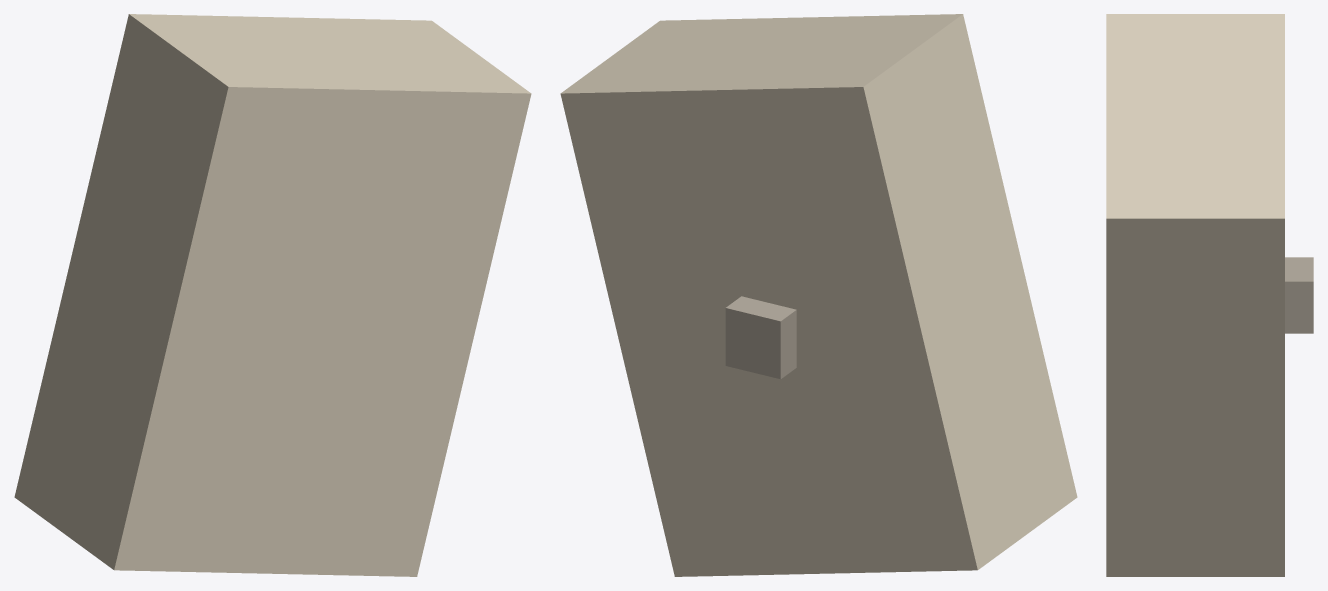
The model's file is historic-palestine-11_36_3529_3302.glb.
3 views of the same model, side by side, from view 1: azimuth 30°, elevation 25°; view 2: azimuth 150°, elevation 25°; view 3: azimuth 270°, elevation 25° (orthographic). The views are drawn at different scales.
Parts seen in each view (by area): view 1: Building_; view 2: Building_, Roof access hut; view 3: Building_, Roof access hut.
Part boxes in pixels (box(x1,y1,x2,y2)): Building_: box(14, 14, 531, 576); Building_: box(560, 14, 1077, 576); Roof access hut: box(725, 296, 796, 379); Building_: box(1106, 14, 1284, 576); Roof access hut: box(1285, 257, 1313, 333).
Size of the model in its own units: 18.13 by 22.25 by 8.7.
